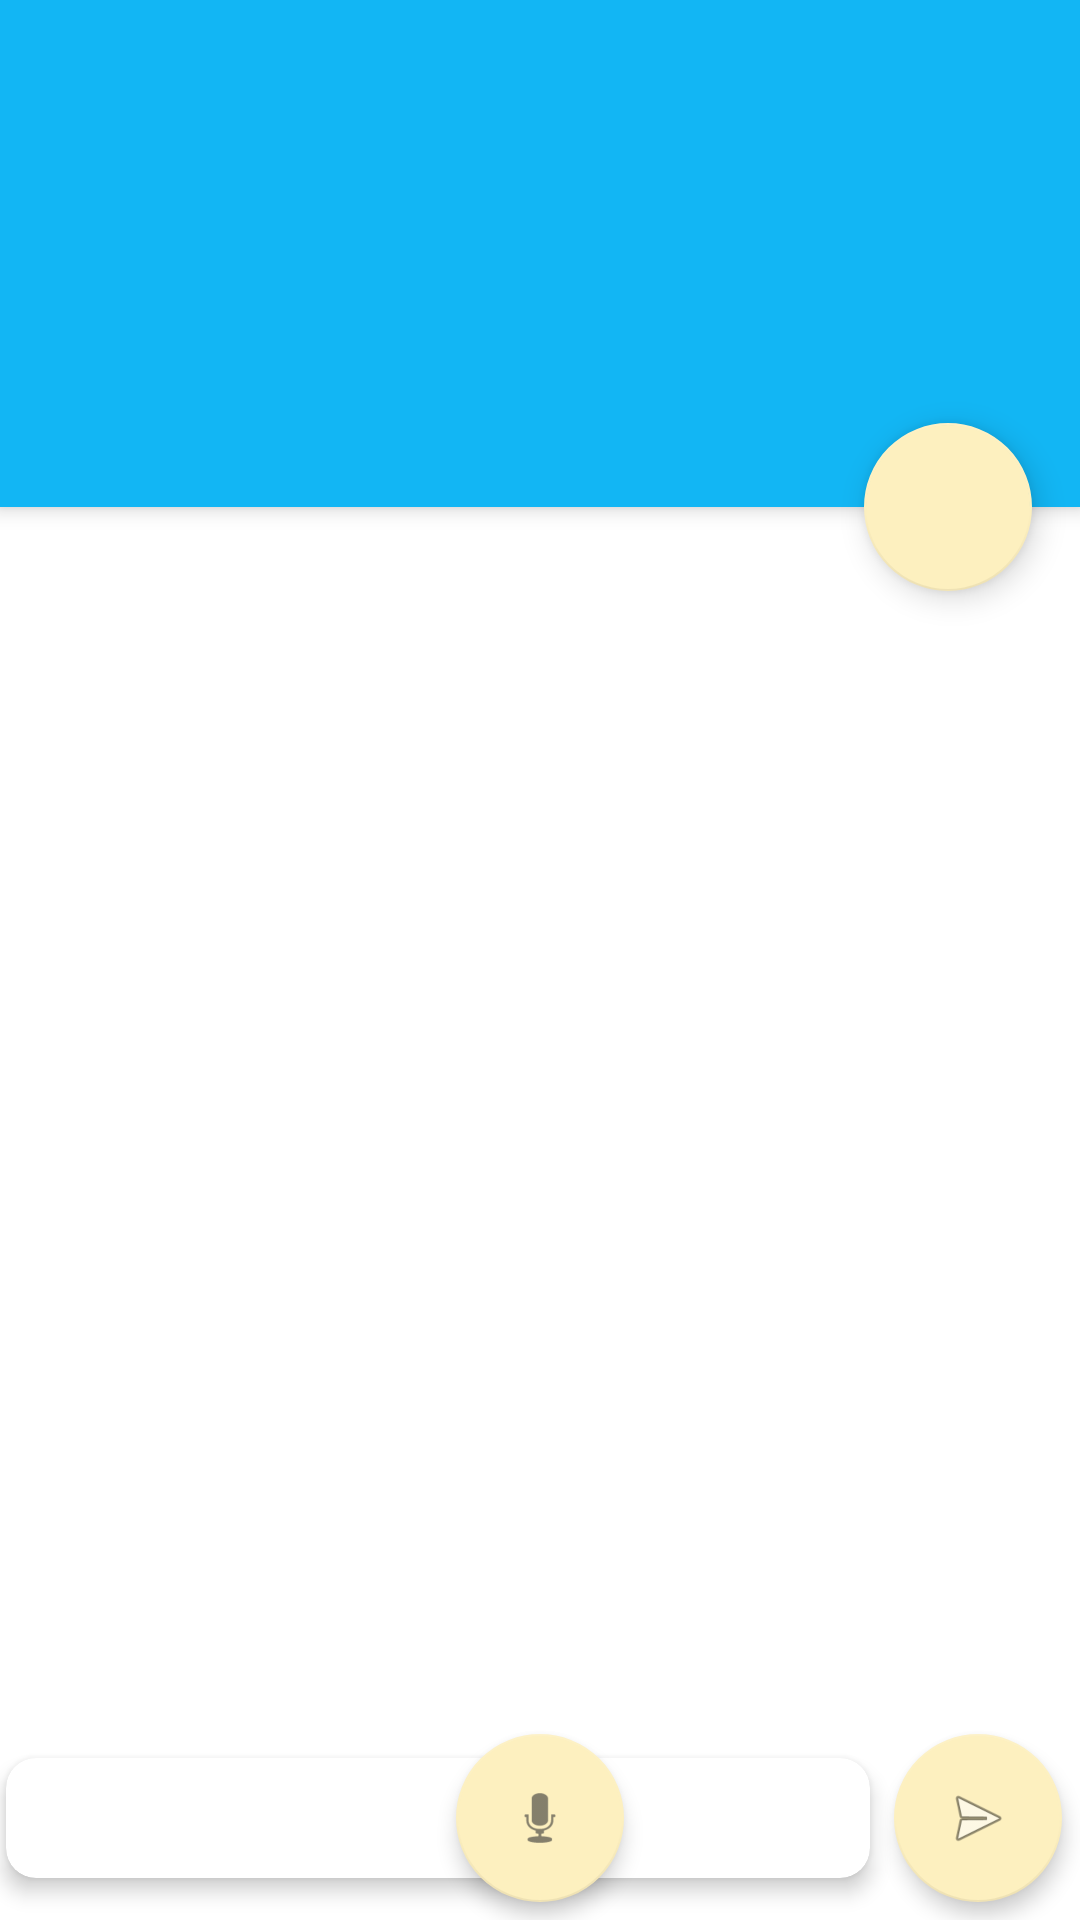

Screen size 1080x1920. Icon name, then its box in pixels as (x1, y1, x2, y2):
perm group microphone: (456, 1734, 624, 1902)
send: (894, 1734, 1062, 1902)
